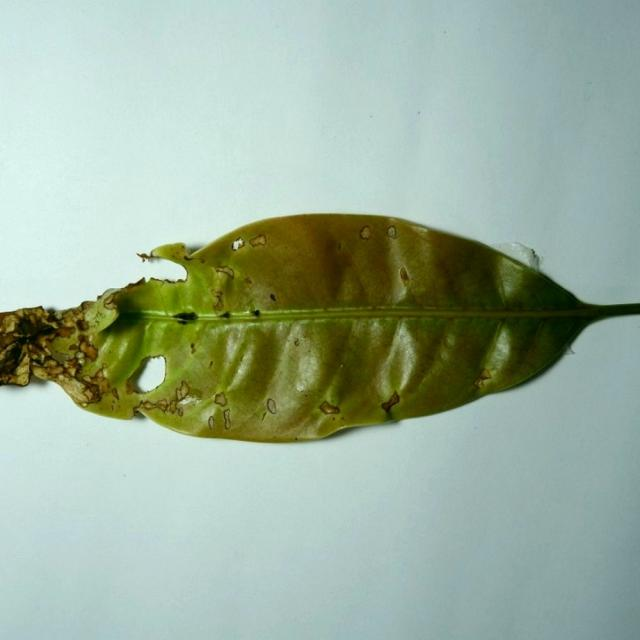Anthracnose: (80, 287, 128, 334), (127, 353, 175, 396), (491, 242, 540, 272), (141, 253, 190, 280), (17, 316, 40, 336), (381, 390, 401, 412), (47, 348, 72, 365), (472, 369, 491, 389), (318, 400, 341, 415), (173, 311, 198, 322), (99, 288, 120, 301), (248, 234, 267, 247), (212, 294, 225, 313), (214, 265, 234, 277), (332, 420, 350, 433), (213, 392, 227, 407), (399, 267, 410, 286), (359, 226, 372, 240), (231, 238, 245, 251), (246, 306, 262, 317), (223, 409, 231, 430), (266, 399, 277, 414), (386, 226, 398, 239), (76, 319, 89, 331), (565, 346, 576, 355), (208, 416, 215, 430), (143, 254, 155, 262), (269, 293, 276, 302), (293, 338, 299, 346), (82, 402, 88, 407)
Mango: (0, 214, 639, 447)
